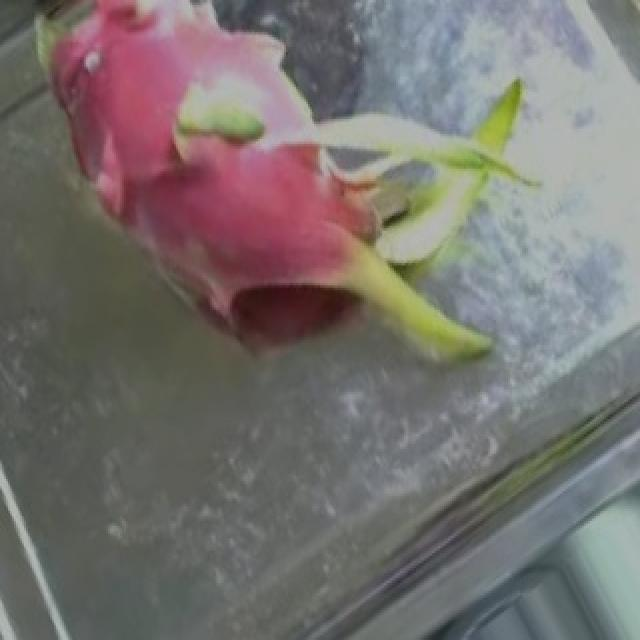fruit: (182, 2, 604, 432), (2, 0, 336, 419)
